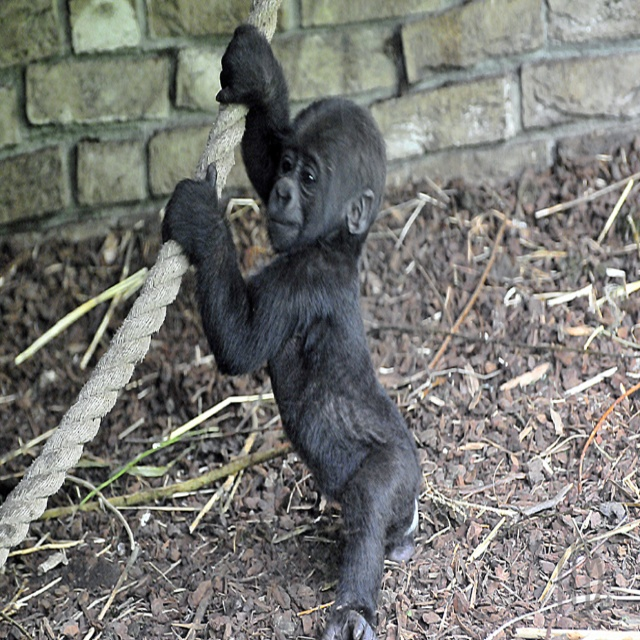Monkey: (161, 24, 421, 639)
